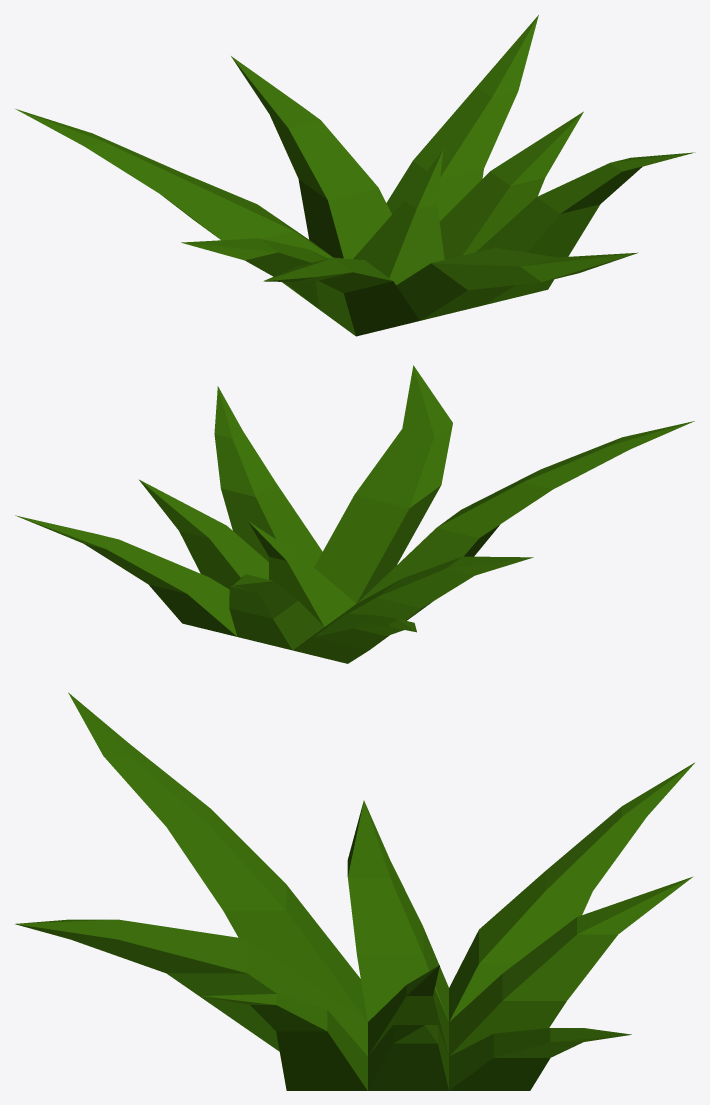
The model's file is Grass A.fbx.
3 views of the same model, one above another, from view 1: azimuth 30°, elevation 25°; view 2: azimuth 150°, elevation 25°; view 3: azimuth 270°, elevation 25° (orthographic). The views are drawn at different scales.
Visible parts, largest first — view 1: Grass B; view 2: Grass B; view 3: Grass B.
Part boxes in pixels (box(x1,y1,x2,y2)): Grass B: box(15, 15, 695, 336); Grass B: box(15, 365, 694, 663); Grass B: box(15, 692, 694, 1090).
Bounding box in the file's own units: 111 × 34.85 × 112.
